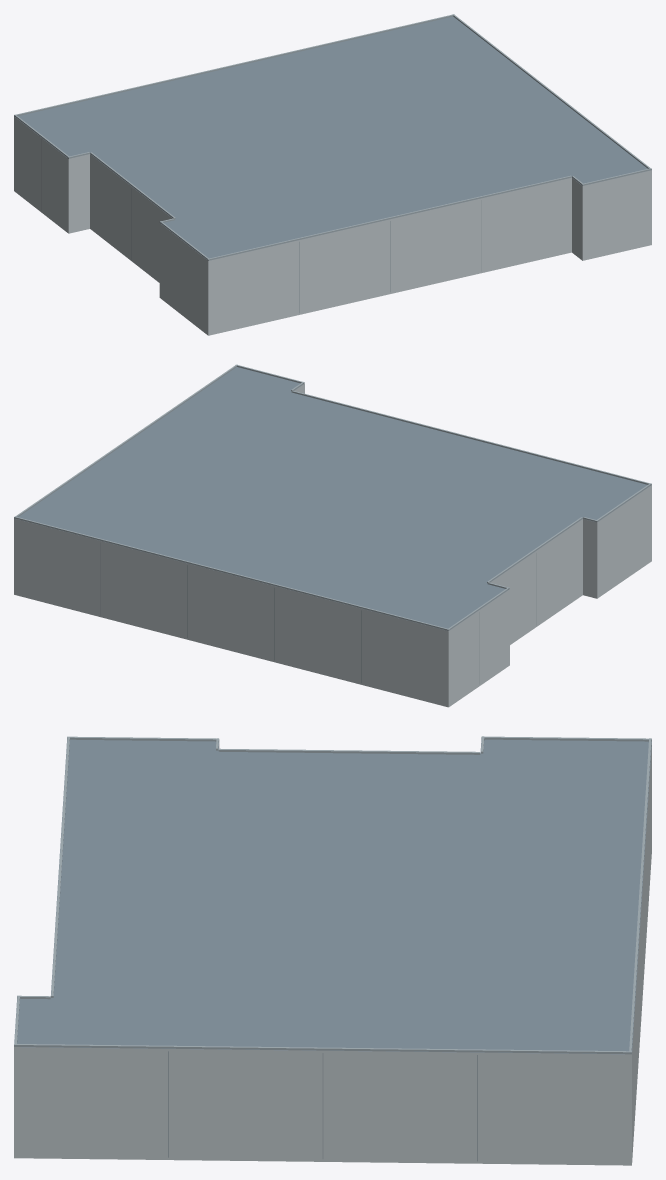
File: SM_MPR_Env_Far_N_Buildings.fbx
3 renders of one model, top to bottom at view 1: azimuth 30°, elevation 25°; view 2: azimuth 150°, elevation 25°; view 3: azimuth 270°, elevation 25°, orthographic. The views are drawn at different scales.
Parts seen in each view (by area): view 1: SM_MPR_Env_Far_N_Buildings; view 2: SM_MPR_Env_Far_N_Buildings; view 3: SM_MPR_Env_Far_N_Buildings.
Part boxes in pixels (left/top/right/bottom): SM_MPR_Env_Far_N_Buildings: left=14, top=14, right=651, bottom=335; SM_MPR_Env_Far_N_Buildings: left=14, top=364, right=651, bottom=707; SM_MPR_Env_Far_N_Buildings: left=14, top=736, right=651, bottom=1165.
Size of the model in its own units: 5486 by 4680 by 916.
